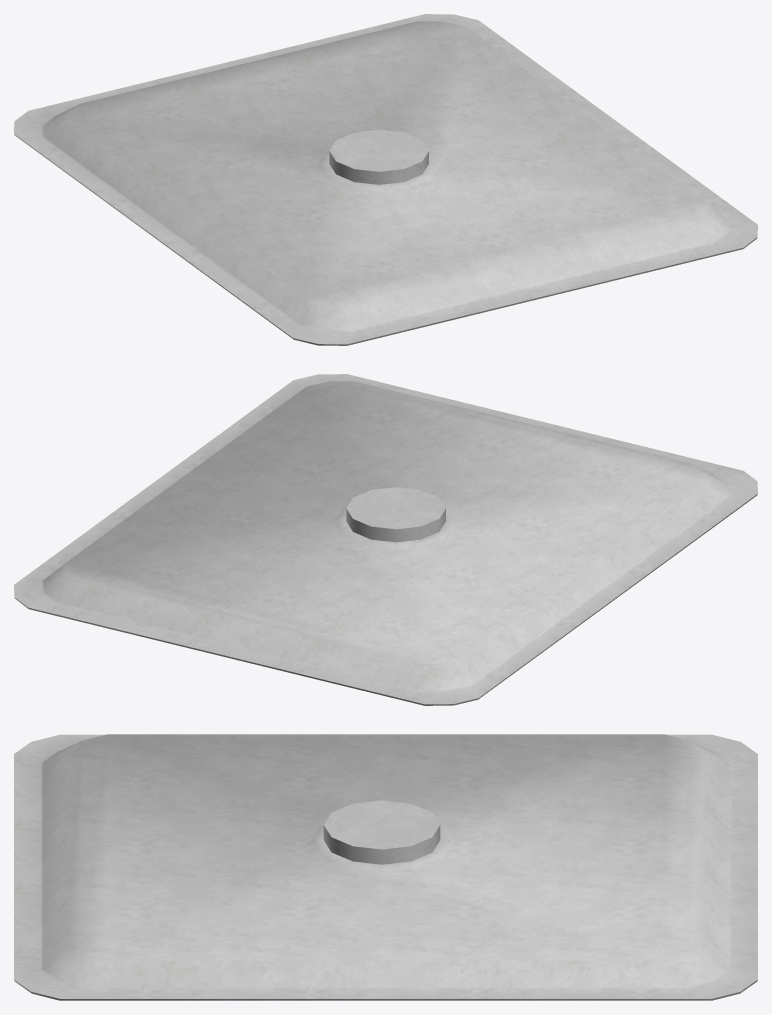
The model's file is SM_超声波清洗仪器盖.fbx.
3 renders of one model, top to bottom at view 1: azimuth 30°, elevation 25°; view 2: azimuth 150°, elevation 25°; view 3: azimuth 270°, elevation 25°, orthographic. The views are drawn at different scales.
Visible parts, largest first — view 1: SM_超声波清洗仪器盖; view 2: SM_超声波清洗仪器盖; view 3: SM_超声波清洗仪器盖.
Part boxes in pixels (bbox=[...]): SM_超声波清洗仪器盖: bbox=[14, 14, 757, 345]; SM_超声波清洗仪器盖: bbox=[14, 374, 757, 705]; SM_超声波清洗仪器盖: bbox=[14, 734, 757, 1000].
Size of the model in its own units: 0.246 by 0.0174 by 0.2926.
